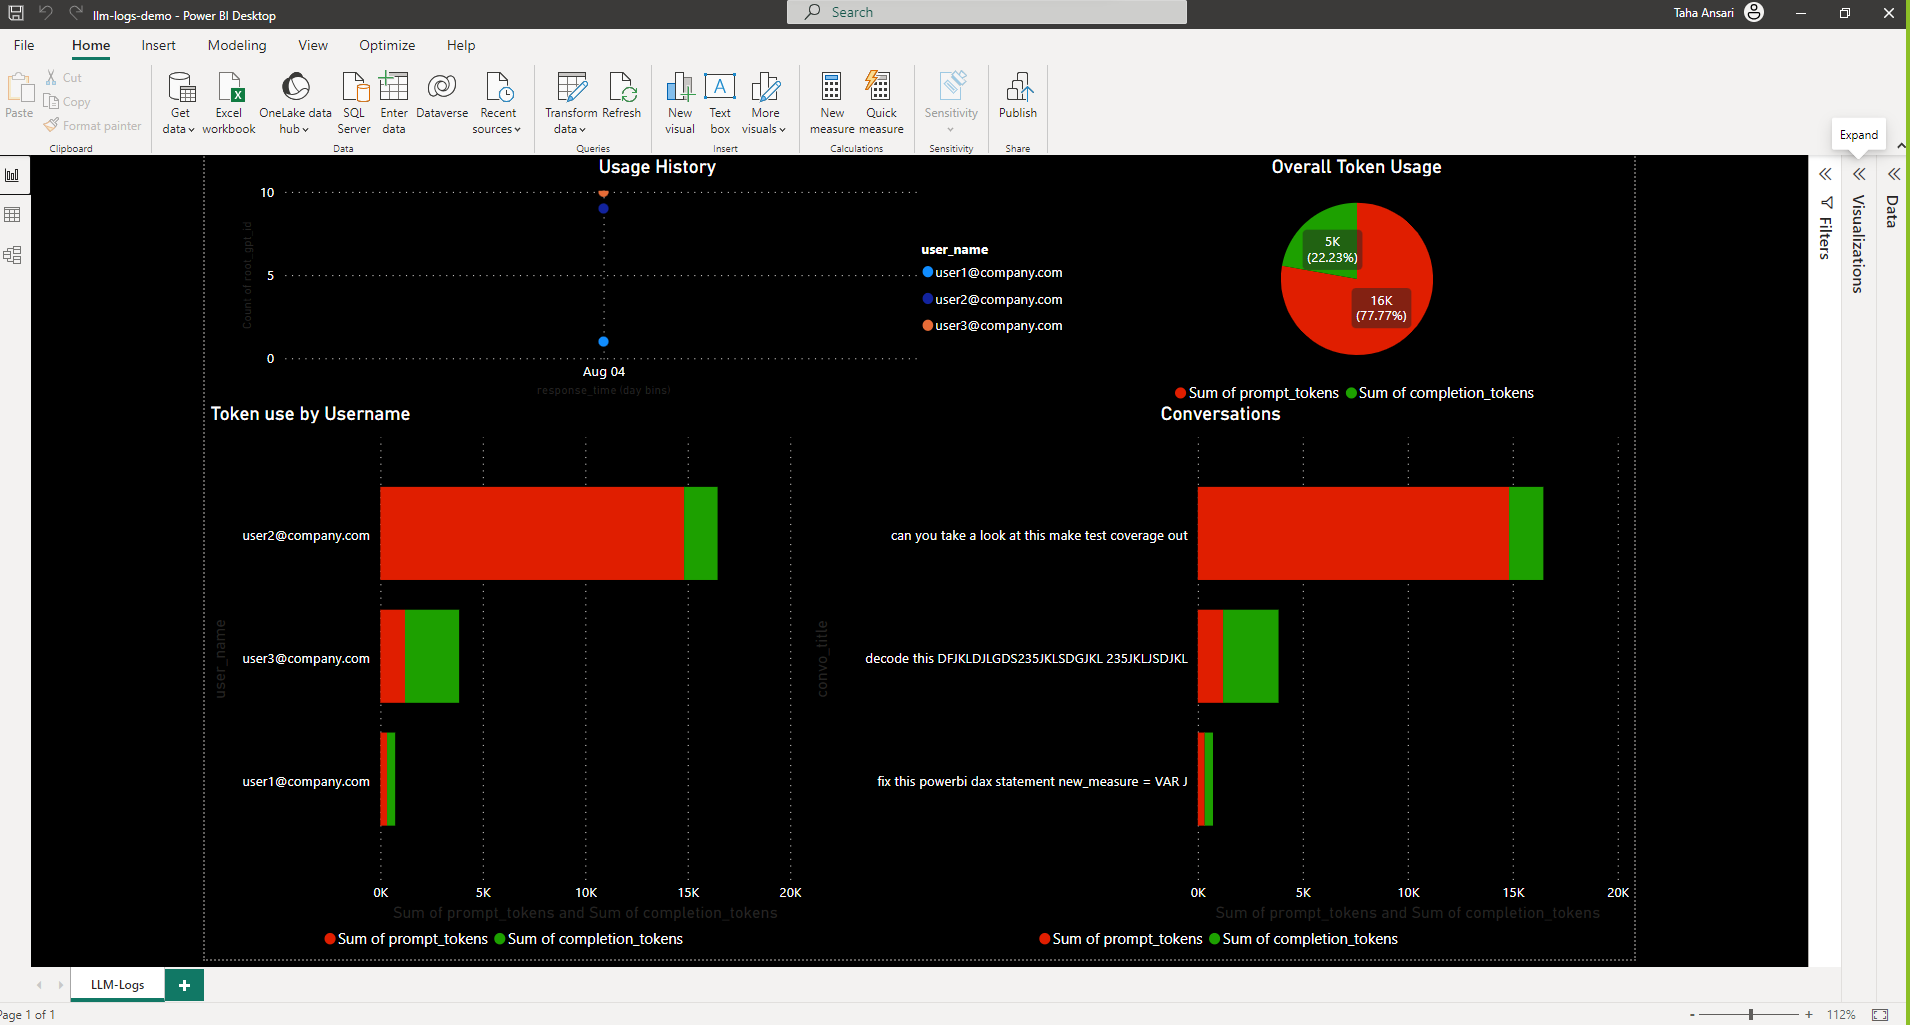

Layout of this report page (visuals, bound fields, positions):
{"tool":"powerbi","page":{"name":"LLM-Logs","canvas":[1280,720],"ordinal":0},"visuals":[{"type":"stackedAreaChart","title":"Usage History","fields":{"Y":["CountNonNull(llm-logs demo_withnames.root_gpt_id)"],"Series":["llm-logs demo_withnames.user_name"],"Category":["llm-logs demo_withnames.response_time (day bins)"]},"box":[26.9,0,756.6,220.8],"z":0},{"type":"barChart","title":"Token use by Username","fields":{"Category":["llm-logs demo_withnames.user_name"],"Y":["Sum(llm-logs demo_withnames.prompt_tokens)","Sum(llm-logs demo_withnames.completion_tokens)"]},"box":[0,220.8,538.9,499.6],"z":1000},{"type":"pieChart","title":"Overall Token Usage","fields":{"Y":["Sum(llm-logs demo_withnames.prompt_tokens)","Sum(llm-logs demo_withnames.completion_tokens)"]},"box":[791.8,0,479.9,232.2],"z":2000},{"type":"barChart","title":"Conversations","fields":{"Y":["Sum(llm-logs demo_withnames.prompt_tokens)","Sum(llm-logs demo_withnames.completion_tokens)"],"Category":["llm-logs demo_withnames.convo_title"]},"box":[538.9,220.8,741.1,499.6],"z":3000}]}

Visuals, with their boxes on the page's 1280x720 design canvas (x1, y1, x2, y2). These are canvas units, not pixel positions in the 1910x1025 screenshot, which may show the page scaled, cropped or inside an application window:
"Usage History" stackedAreaChart: [left=27, top=0, right=784, bottom=221]
"Token use by Username" barChart: [left=0, top=221, right=539, bottom=720]
"Overall Token Usage" pieChart: [left=792, top=0, right=1272, bottom=232]
"Conversations" barChart: [left=539, top=221, right=1280, bottom=720]
